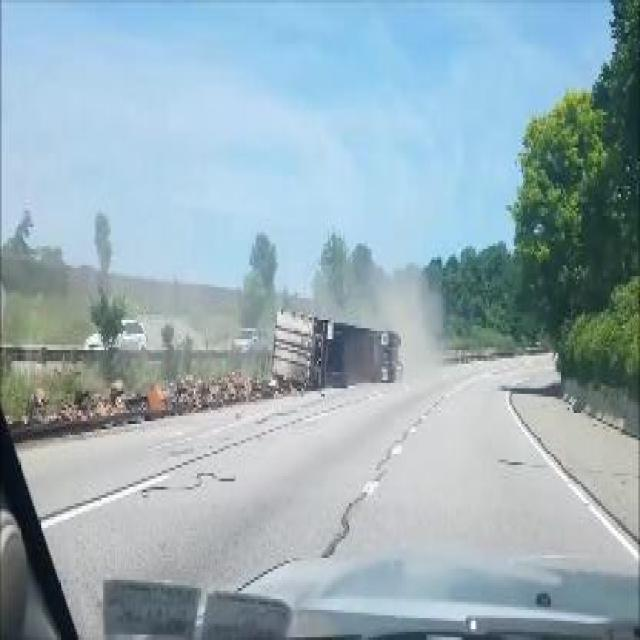accident: (264, 290, 402, 402)
